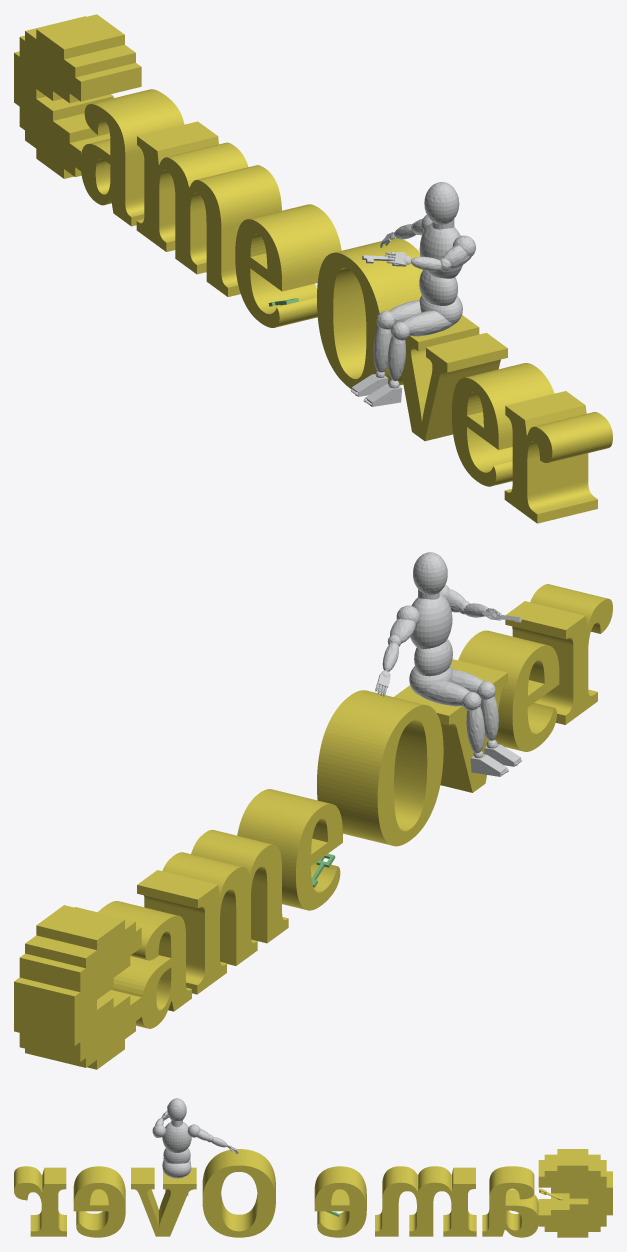
File: Game_Over.glb
3 renders of one model, top to bottom at view 1: azimuth 30°, elevation 25°; view 2: azimuth 150°, elevation 25°; view 3: azimuth 270°, elevation 25°, orthographic. The views are drawn at different scales.
Visible parts, largest first — view 1: Mesh_Mesh_head_geo.001_lambert2SG.001; view 2: Mesh_Mesh_head_geo.001_lambert2SG.001; view 3: Mesh_Mesh_head_geo.001_lambert2SG.001.
Part boxes in pixels (bbox=[...]): Mesh_Mesh_head_geo.001_lambert2SG.001: bbox=[14, 14, 612, 523]; Mesh_Mesh_head_geo.001_lambert2SG.001: bbox=[14, 552, 612, 1069]; Mesh_Mesh_head_geo.001_lambert2SG.001: bbox=[14, 1098, 612, 1237].
Size of the model in its own units: 1.81 by 3.73 by 15.35.
